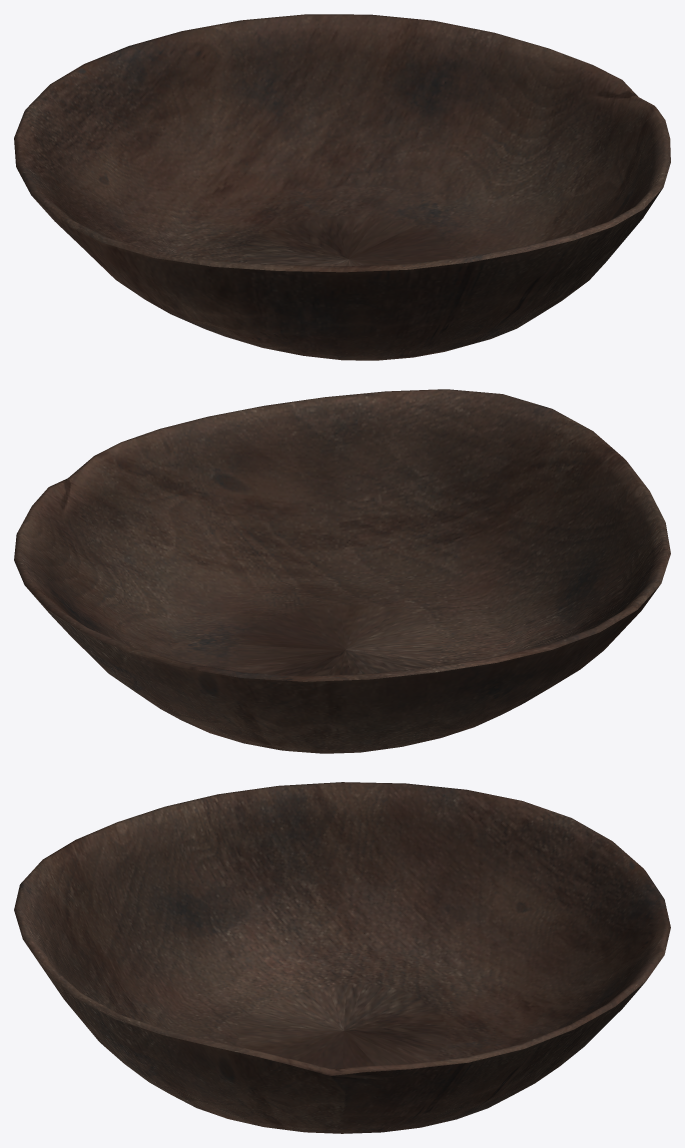
File: SM_WoodBowls_Bowl1.fbx
The picture shows the model from 3 angles, top to bottom: view 1: azimuth 30°, elevation 25°; view 2: azimuth 150°, elevation 25°; view 3: azimuth 270°, elevation 25°; orthographic projection. The views are drawn at different scales.
Parts seen in each view (by area): view 1: SM_WoodBowls_Bowl1_LOD0; view 2: SM_WoodBowls_Bowl1_LOD0; view 3: SM_WoodBowls_Bowl1_LOD0.
Part boxes in pixels (x1,y1,x2,y2): SM_WoodBowls_Bowl1_LOD0: (14,14,670,360); SM_WoodBowls_Bowl1_LOD0: (14,389,670,753); SM_WoodBowls_Bowl1_LOD0: (14,782,670,1133).
Bounding box in the file's own units: 28.86 × 28.97 × 7.69.
